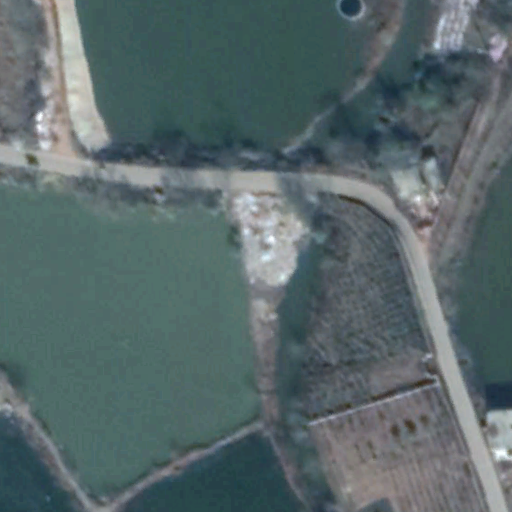msw: (233, 186, 307, 288)
